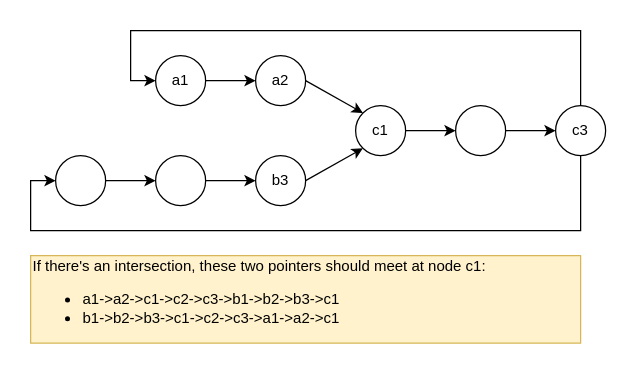
This 628x365 diagram has some shape labels left out. Each missing label, with the box of its shape:
b1: (54, 154, 106, 206)
b2: (154, 154, 206, 206)
c2: (454, 104, 506, 156)
